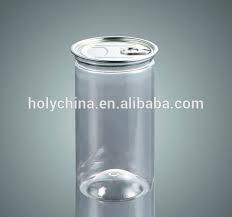Aluminum can: (60, 29, 155, 201)
